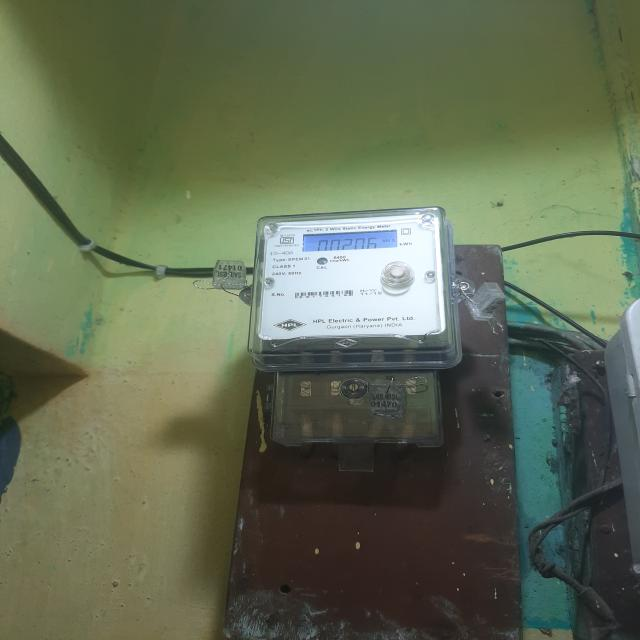display: (302, 231, 400, 252)
